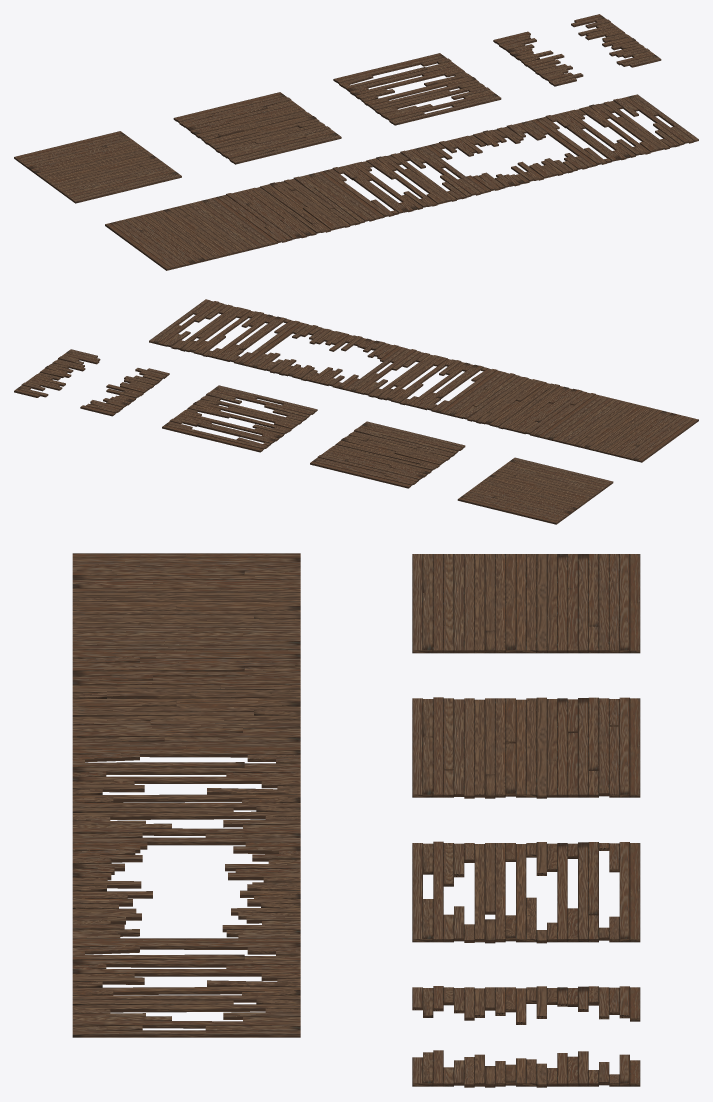
The model's file is Damage_floor.fbx.
3 renders of one model, top to bottom at view 1: azimuth 30°, elevation 25°; view 2: azimuth 150°, elevation 25°; view 3: azimuth 270°, elevation 25°, orthographic. The views are drawn at different scales.
Visible parts, largest first — view 1: floor_dmg1.001, floor_flat.001, floor_flat, floor_dmg1.002, floor_dmg2.001, floor_dmg2.003, floor_dmg2.002, floor_dmg1.003, floor_dmg1.004; view 2: floor_dmg1.001, floor_flat, floor_flat.001, floor_dmg1.002, floor_dmg2.001, floor_dmg2.003, floor_dmg2.002, floor_dmg1.003, floor_dmg1.004; view 3: floor_flat, floor_dmg1.001, floor_flat.001, floor_dmg1.002, floor_dmg2.003, floor_dmg2.002, floor_dmg2.001, floor_dmg1.003, floor_dmg1.004.
Boxes of the visible parts, left/top/right/bottom form: floor_dmg1.001: left=173, top=92, right=341, bottom=164; floor_flat.001: left=105, top=198, right=272, bottom=270; floor_flat: left=14, top=131, right=181, bottom=203; floor_dmg1.002: left=212, top=172, right=379, bottom=244; floor_dmg2.001: left=333, top=53, right=501, bottom=125; floor_dmg2.003: left=531, top=94, right=698, bottom=166; floor_dmg2.002: left=318, top=146, right=485, bottom=218; floor_dmg1.003: left=493, top=14, right=661, bottom=86; floor_dmg1.004: left=425, top=120, right=592, bottom=192; floor_dmg1.001: left=310, top=421, right=465, bottom=488; floor_flat: left=457, top=457, right=613, bottom=524; floor_flat.001: left=543, top=395, right=698, bottom=462; floor_dmg1.002: left=444, top=371, right=599, bottom=438; floor_dmg2.001: left=162, top=385, right=317, bottom=452; floor_dmg2.003: left=149, top=299, right=303, bottom=366; floor_dmg2.002: left=346, top=347, right=501, bottom=414; floor_dmg1.003: left=14, top=349, right=169, bottom=416; floor_dmg1.004: left=247, top=323, right=402, bottom=390; floor_flat: left=412, top=554, right=640, bottom=653; floor_dmg1.001: left=412, top=697, right=640, bottom=798; floor_flat.001: left=72, top=553, right=300, bottom=649; floor_dmg1.002: left=72, top=649, right=300, bottom=745; floor_dmg2.003: left=72, top=938, right=300, bottom=1037; floor_dmg2.002: left=72, top=746, right=300, bottom=845; floor_dmg2.001: left=412, top=841, right=640, bottom=943; floor_dmg1.003: left=412, top=986, right=640, bottom=1087; floor_dmg1.004: left=72, top=842, right=300, bottom=938.
Size of the model in its own units: 1101 by 6.03 by 498.
